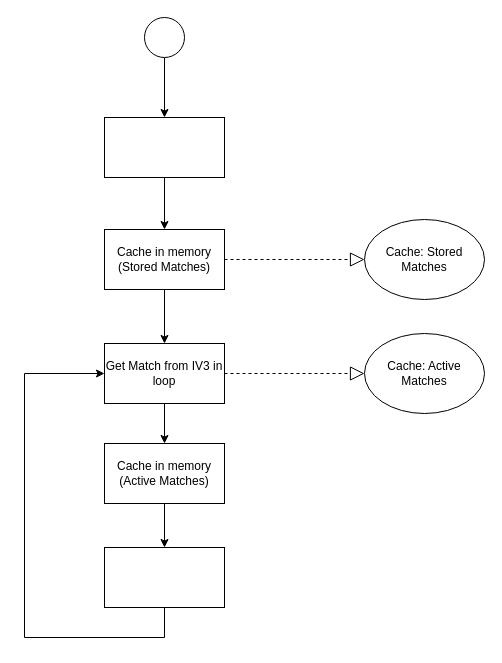
This 502x663 diagram has some shape labels left out. The shapes that lost their labels are listed below. From the top down, each one's centre as x and y in pixels, then its label:
At (164,147): "Load Match from DB".
At (164,577): "Wait x seconds".
